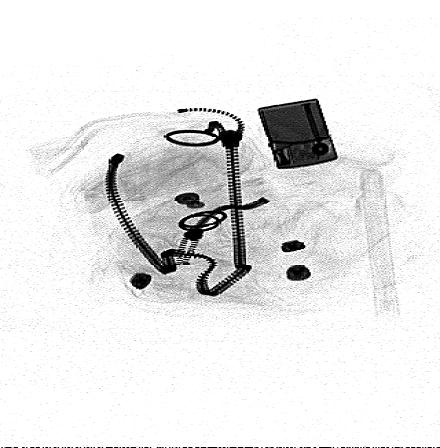Lighter: (256, 98, 339, 171)
